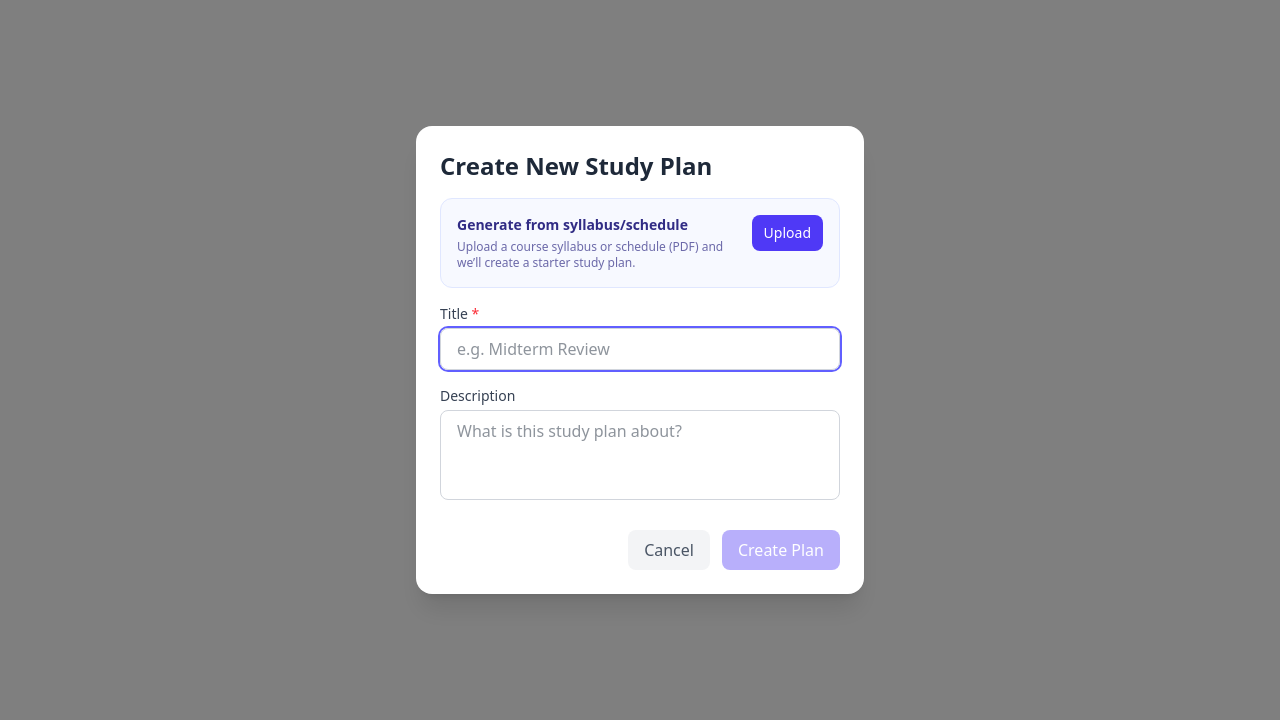
Test: Generate plan from syllabus UI › opens the generator modal from CreatePlanForm
The width and height of the screenshot is (1280, 720).
Click the button "Upload" at [787, 233], box [752, 215, 823, 251]
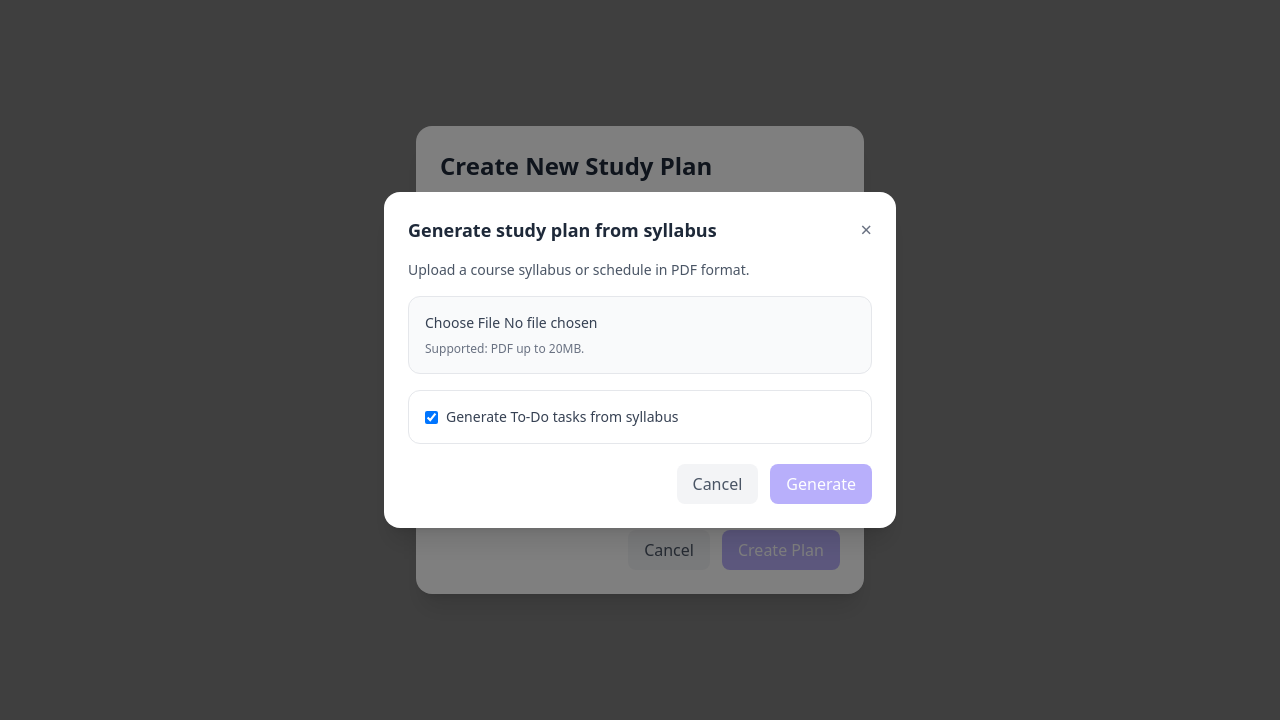
expect the heading "Generate study plan from syllabus" is shown: met, box [408, 216, 717, 244]
expect the file field named "syllabus pdf" is shown: met, box [425, 313, 855, 333]
